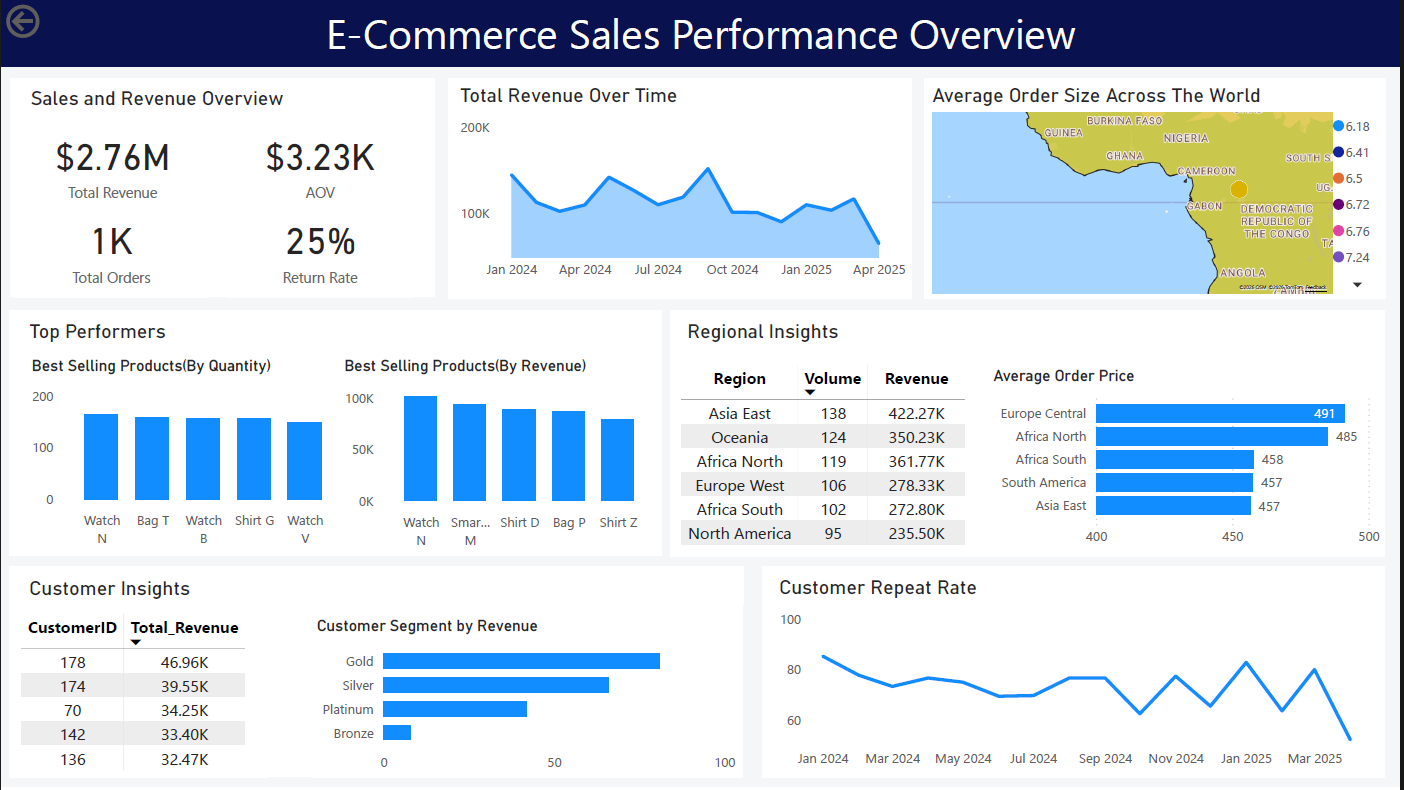

The page's visual inventory and layout, read from the dashboard file:
{"tool":"powerbi","page":{"name":"Page 1","canvas":[1280,720],"ordinal":0},"visuals":[{"type":"textbox","box":[0,0,1280,61.2],"z":0},{"type":"shape","box":[8.7,72.1,388.1,200.3],"z":1000},{"type":"shape","title":"Sales and Revenue Overview","box":[8.7,72.1,388.1,145.5],"z":2000},{"type":"card","fields":{"Values":["Sum(Total Orders.count(distinct OrderID))"]},"box":[12.4,181.6,177.9,90.8],"z":3000},{"type":"card","fields":{"Values":["Sum(AOV.AOV)"]},"box":[201.3,103.8,182.1,92.3],"z":4000},{"type":"card","fields":{"Values":["Sum(Total Revenue.Total Revenue)"]},"box":[12.4,103.2,180.4,94.5],"z":5000},{"type":"card","fields":{"Values":["Sum(ReturnRate.ReturnRate)"]},"box":[201.3,182.1,182.1,91],"z":6000},{"type":"shape","box":[7.7,307.7,596.2,201.3],"z":7000},{"type":"shape","title":"Top Performers","box":[7.7,284.6,596.2,212.8],"z":8000},{"type":"areaChart","title":"       Total Revenue Over Time","fields":{"Category":["Revenue Time Trend.Date"],"Y":["Sum(Revenue Time Trend.Total Revenue)"]},"box":[409.3,72.1,424.2,201.5],"z":9000},{"type":"columnChart","title":"Best Selling Products(By Quantity)","fields":{"Y":["Sum(Top 5 Products by Quantity.UnitsSold)"],"Category":["Top 5 Products by Quantity.ProductName"]},"box":[19.5,317.2,299.1,190.6],"z":10000},{"type":"columnChart","title":"Best Selling Products(By Revenue)","fields":{"Category":["Top 5 Products by Revenue.ProductName"],"Y":["Sum(Top 5 Products by Revenue.Revenue)"]},"box":[305.1,316.7,298.7,192.3],"z":11000},{"type":"shape","box":[7.7,519.2,443.6,192.3],"z":12000},{"type":"shape","title":"Customer Insights","box":[7.7,519.2,670.5,192.3],"z":13000},{"type":"tableEx","fields":{"Values":["Top 5 Customers by Revenue.CustomerID","Top 5 Customers by Revenue.Total_Revenue"]},"box":[9,557.7,234.6,153.8],"z":14000},{"type":"actionButton","box":[0,0,100,40],"z":15000},{"type":"clusteredBarChart","title":"Customer Segment by Revenue","fields":{"Category":["Customer Segments.Customer Segment"],"Y":["Sum(Customer Segments.count(*))"]},"box":[284.3,548.6,392.9,162.9],"z":16000},{"type":"lineChart","title":"Customer Repeat Rate","fields":{"Y":["Sum(CRR Time Trend.CRR)"],"Category":["CRR Time Trend.Date"]},"box":[697.1,518.6,568.6,192.9],"z":17000},{"type":"shape","box":[613.3,284.9,653.1,223.9],"z":18000},{"type":"shape","title":"Regional Insights","box":[613.3,284.9,653.1,225.2],"z":19000},{"type":"tableEx","fields":{"Values":["Regional Volume and Revenue.Region","Regional Volume and Revenue.Volume","Regional Volume and Revenue.Revenue"]},"box":[613.3,329.6,289.8,180.4],"z":20000},{"type":"azureMap","title":"Average Order Size Across The World","fields":{"Series":["Regional AOV Trends Map.Avg Order Size"],"Category":["Regional AOV Trends Map.RegionName"]},"box":[844.6,72.1,421.7,201.5],"z":21000},{"type":"clusteredBarChart","title":"Average Order Price","fields":{"Category":["Average Price Regional.RegionName"],"Y":["Sum(Average Price Regional.AvgPrice)"]},"box":[903.1,329.6,363.2,179.1],"z":22000}]}

Visuals, with their boxes in screenshot pixels (x1, y1, x2, y2), scaled from the page's 1280x720 canvas onto the 1404x790 screenshot:
textbox: x1=0 y1=0 x2=1403 y2=67
shape: x1=10 y1=79 x2=435 y2=299
"Sales and Revenue Overview" shape: x1=10 y1=79 x2=435 y2=239
card - Sum(Total Orders.count(distinct OrderID)): x1=14 y1=199 x2=209 y2=299
card - Sum(AOV.AOV): x1=221 y1=114 x2=421 y2=215
card - Sum(Total Revenue.Total Revenue): x1=14 y1=113 x2=211 y2=217
card - Sum(ReturnRate.ReturnRate): x1=221 y1=200 x2=421 y2=300
shape: x1=8 y1=338 x2=662 y2=558
"Top Performers" shape: x1=8 y1=312 x2=662 y2=546
"       Total Revenue Over Time" areaChart: x1=449 y1=79 x2=914 y2=300
"Best Selling Products(By Quantity)" columnChart: x1=21 y1=348 x2=349 y2=557
"Best Selling Products(By Revenue)" columnChart: x1=335 y1=347 x2=662 y2=558
shape: x1=8 y1=570 x2=495 y2=781
"Customer Insights" shape: x1=8 y1=570 x2=744 y2=781
tableEx - Top 5 Customers by Revenue.CustomerID x Top 5 Customers by Revenue.Total_Revenue: x1=10 y1=612 x2=267 y2=781
actionButton: x1=0 y1=0 x2=110 y2=44
"Customer Segment by Revenue" clusteredBarChart: x1=312 y1=602 x2=743 y2=781
"Customer Repeat Rate" lineChart: x1=765 y1=569 x2=1388 y2=781
shape: x1=673 y1=313 x2=1389 y2=558
"Regional Insights" shape: x1=673 y1=313 x2=1389 y2=560
tableEx - Regional Volume and Revenue.Region x Regional Volume and Revenue.Volume: x1=673 y1=362 x2=991 y2=560
"Average Order Size Across The World" azureMap: x1=926 y1=79 x2=1389 y2=300
"Average Order Price" clusteredBarChart: x1=991 y1=362 x2=1389 y2=558
